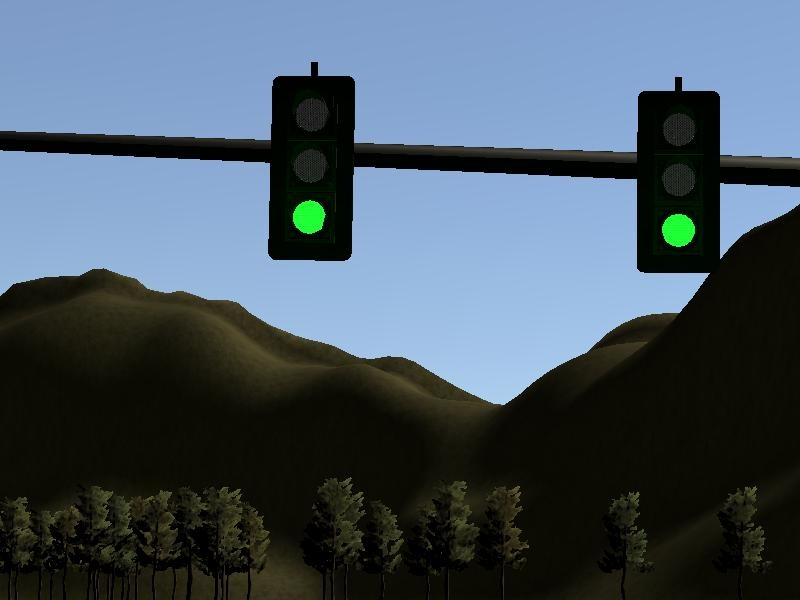GREEN: (267, 74, 356, 263), (633, 88, 722, 277)
